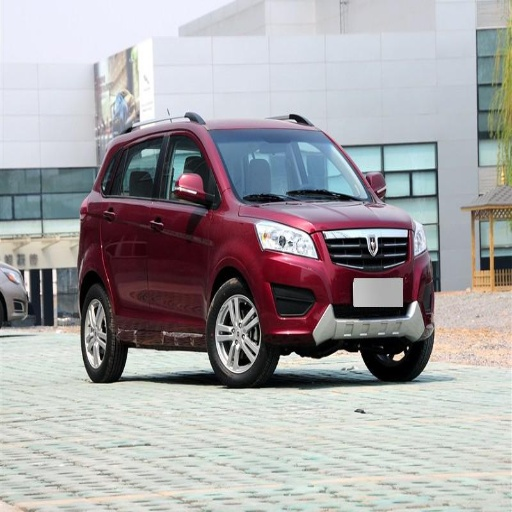front_bumper: (257, 230, 434, 347)
front_right_door: (148, 129, 219, 328)
front_right_light: (259, 224, 320, 259)
hood: (243, 203, 411, 231)
